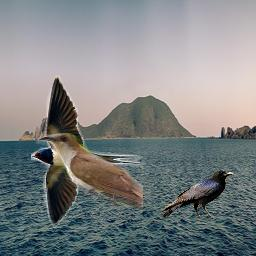Crow: (161, 169, 233, 218)
Cuckoo: (36, 133, 143, 212)
Swallow: (31, 75, 144, 228)
